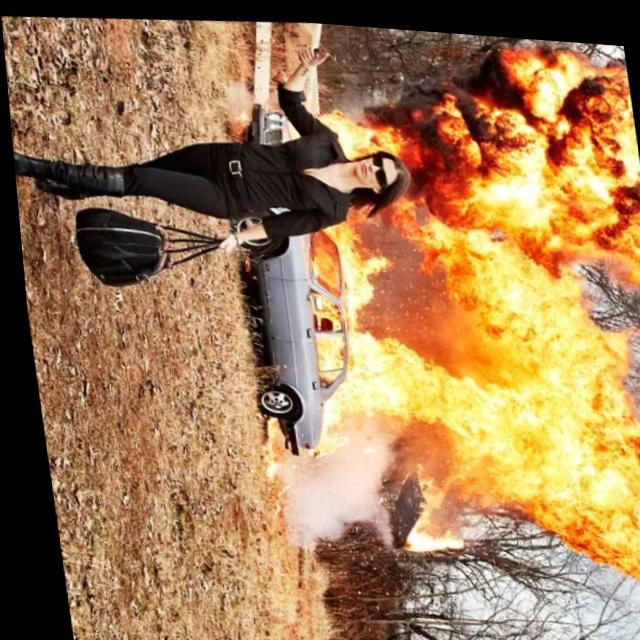Fire: (285, 17, 640, 427), (374, 394, 640, 549)
